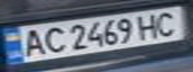2: (66, 20, 87, 52)
4: (84, 18, 106, 48)
6: (103, 17, 124, 46)
9: (115, 16, 139, 44)
A: (18, 26, 48, 59)
C: (151, 9, 187, 37), (39, 25, 69, 55)
H: (133, 11, 166, 39)
